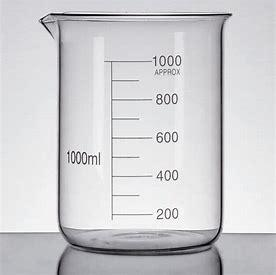Beaker: (34, 9, 230, 273)
